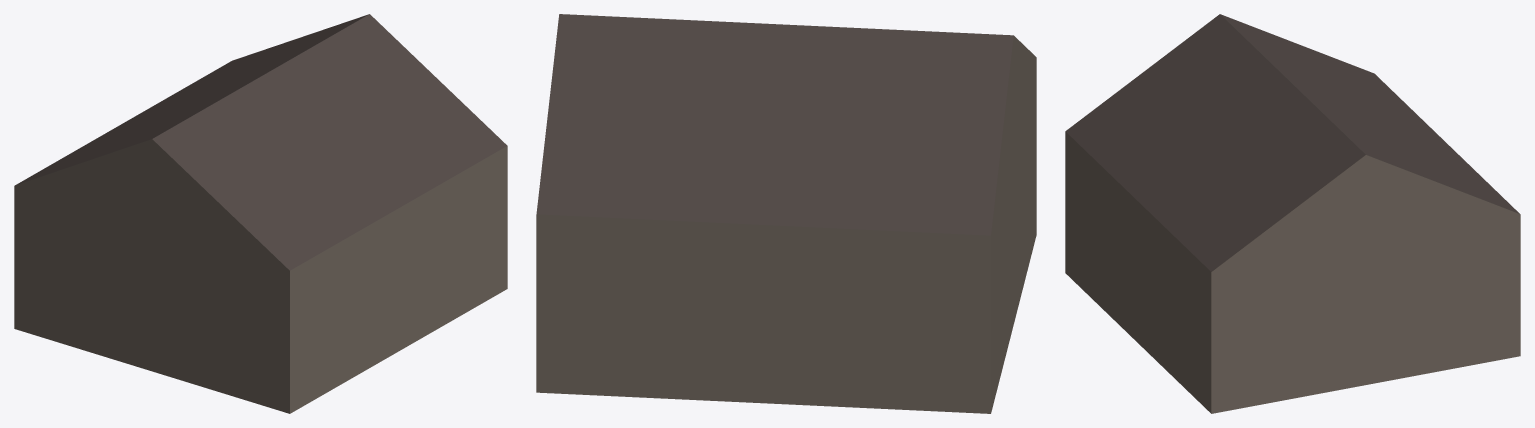
The picture shows the model from 3 angles, left to right: view 1: azimuth 30°, elevation 25°; view 2: azimuth 150°, elevation 25°; view 3: azimuth 270°, elevation 25°; orthographic projection. The views are drawn at different scales.
Visible parts, largest first — view 1: HP-w859447920; view 2: HP-w859447920; view 3: HP-w859447920.
Part boxes in pixels (box(x1,y1,x2,y2)): HP-w859447920: box(14, 14, 507, 413); HP-w859447920: box(536, 14, 1036, 413); HP-w859447920: box(1065, 14, 1520, 413).
Size of the model in its own units: 18.02 by 9.74 by 17.45.
